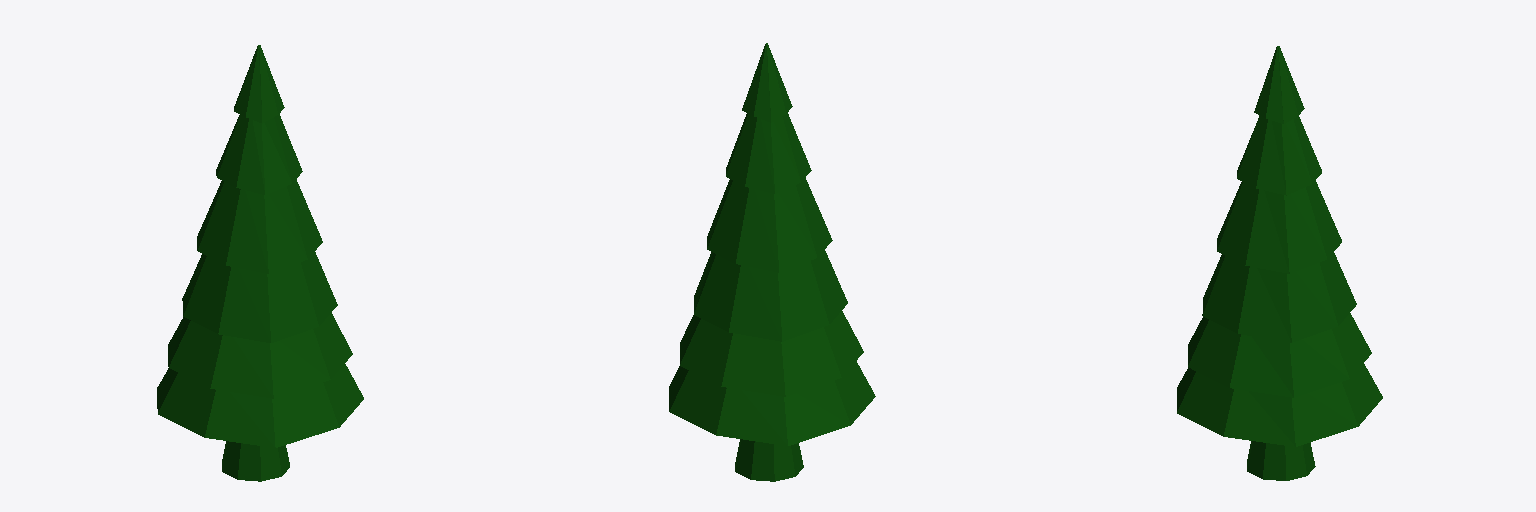
File: tree.obj
The picture shows the model from 3 angles: view 1: azimuth 30°, elevation 25°; view 2: azimuth 150°, elevation 25°; view 3: azimuth 270°, elevation 25°; orthographic projection.
Visible parts, largest first — view 1: Cylinder; view 2: Cylinder; view 3: Cylinder.
Boxes of the visible parts, x1=… form: Cylinder: x1=157, y1=45, x2=363, y2=481; Cylinder: x1=669, y1=43, x2=875, y2=481; Cylinder: x1=1177, y1=46, x2=1382, y2=480.
Bounding box in the file's own units: 2.31 × 5.12 × 2.28.